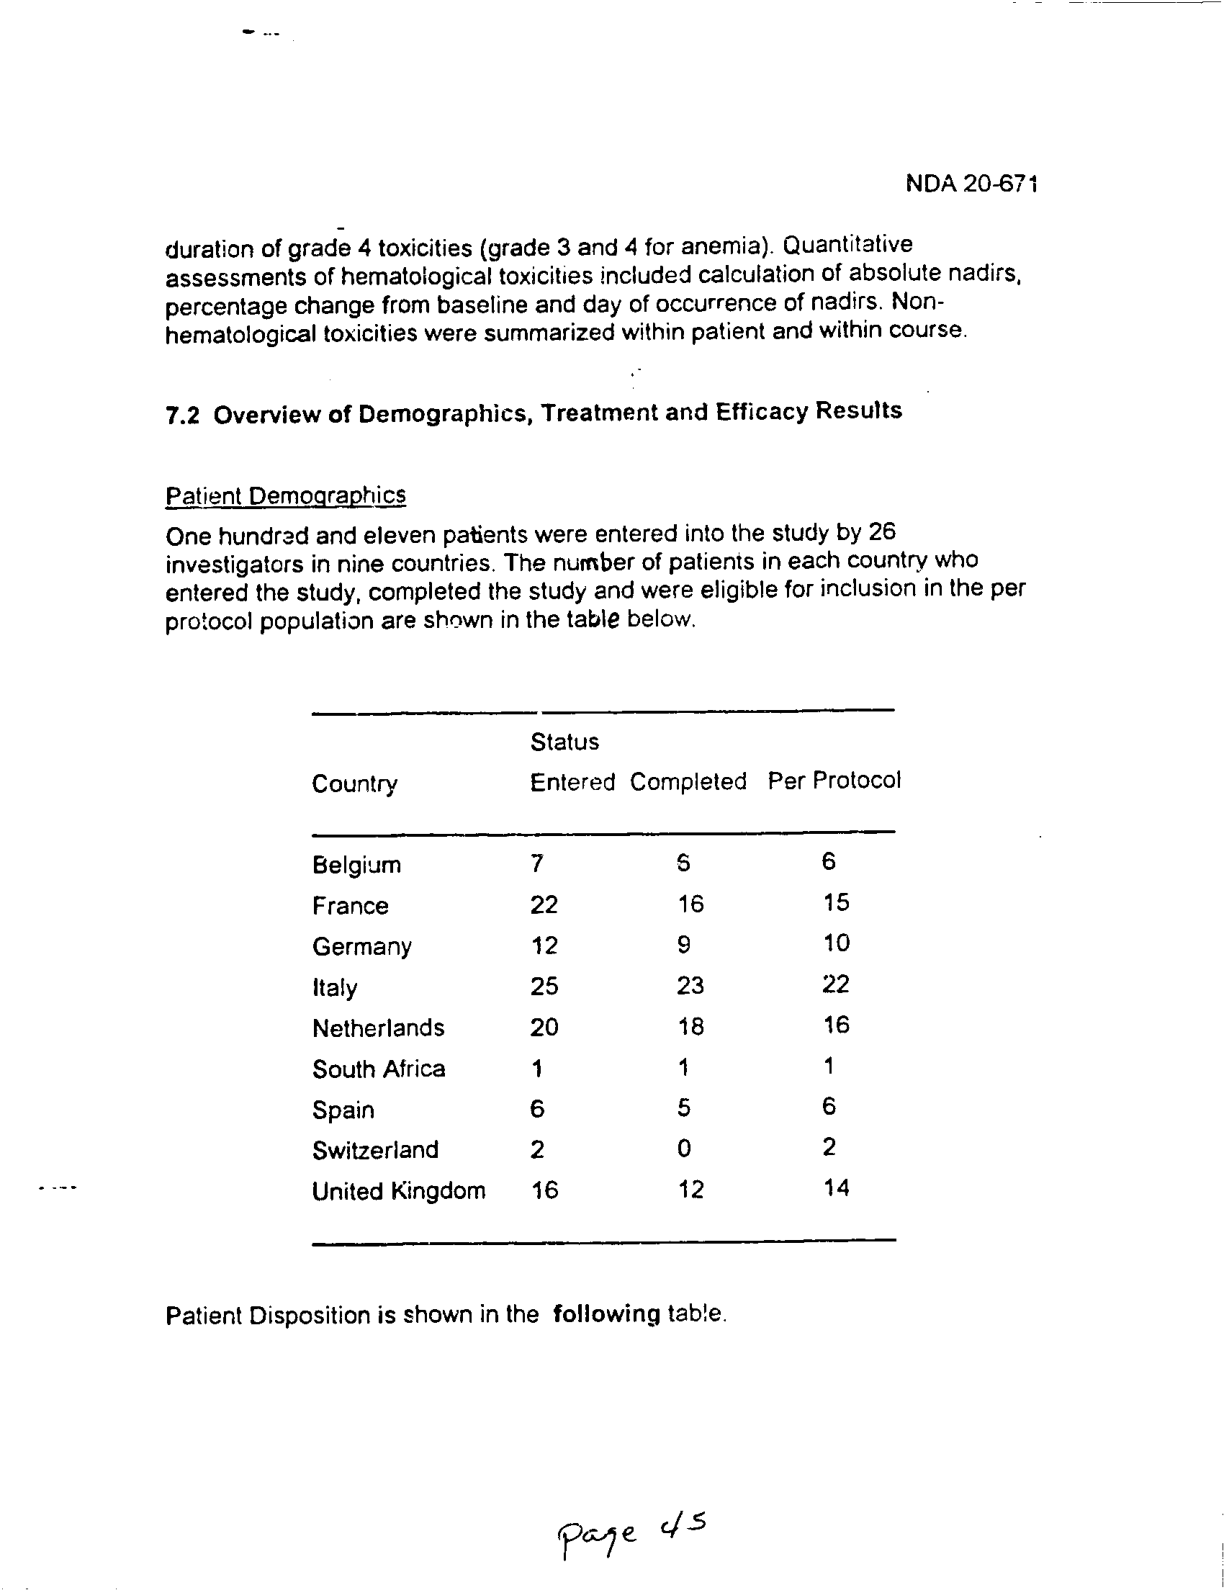partial_lined: (310, 710, 903, 1246)
